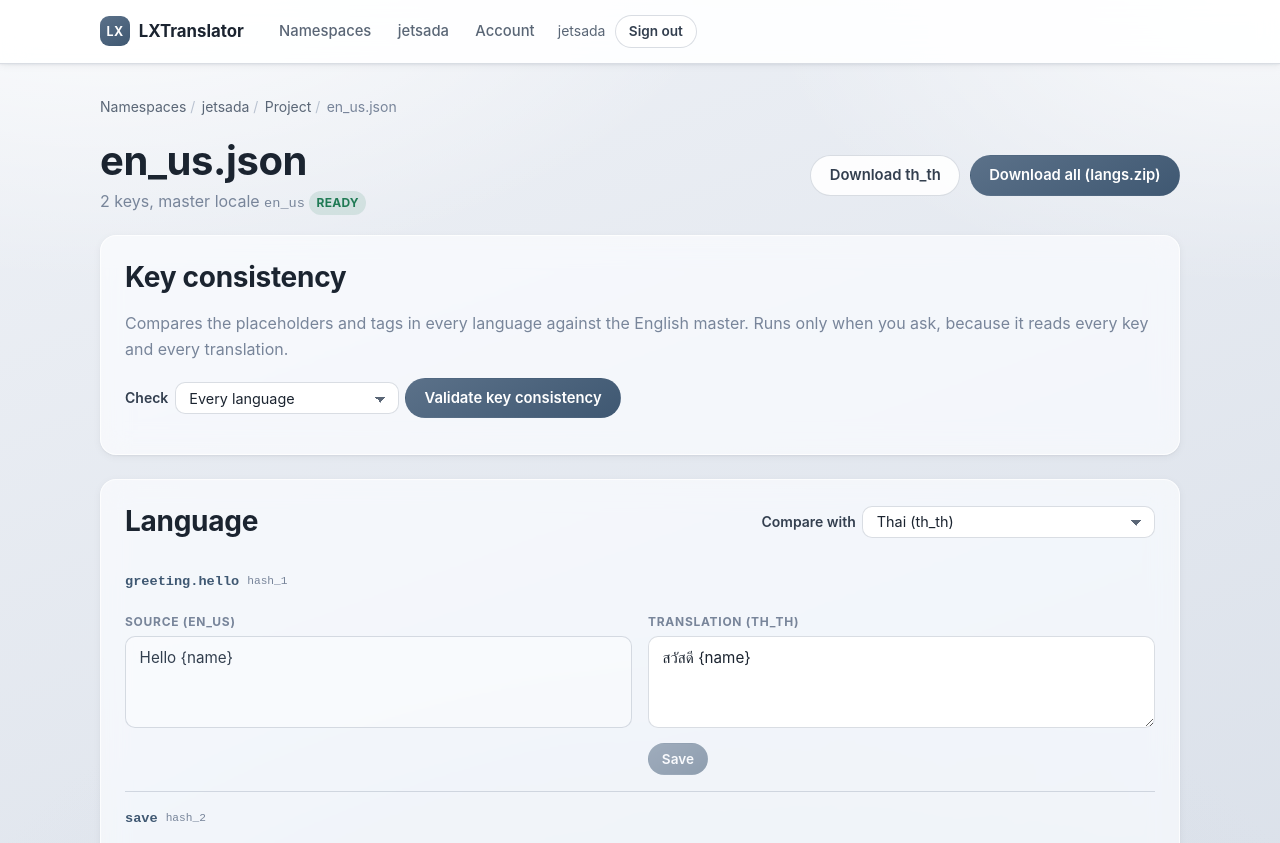
it: partial updates and consistency › the consistency check › checks every language by default
This screenshot has width=1280, height=843.
Expected: the text "greeting.hello" is shown, [125,571,239,593]
Click the button "Validate key consistency": [513, 398] box [405,378,621,418]
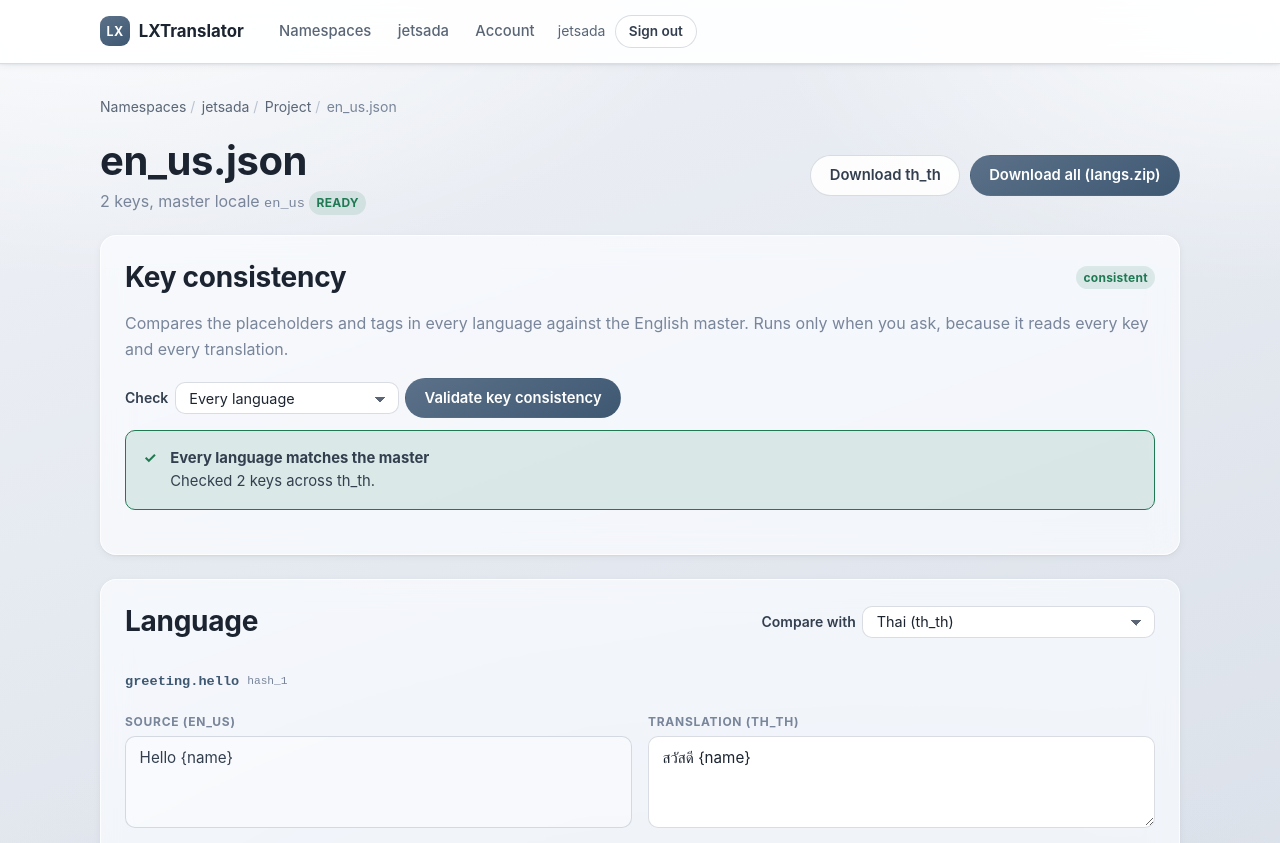
Result: the text "Every language matches the master" is shown at [170,449,429,467]
